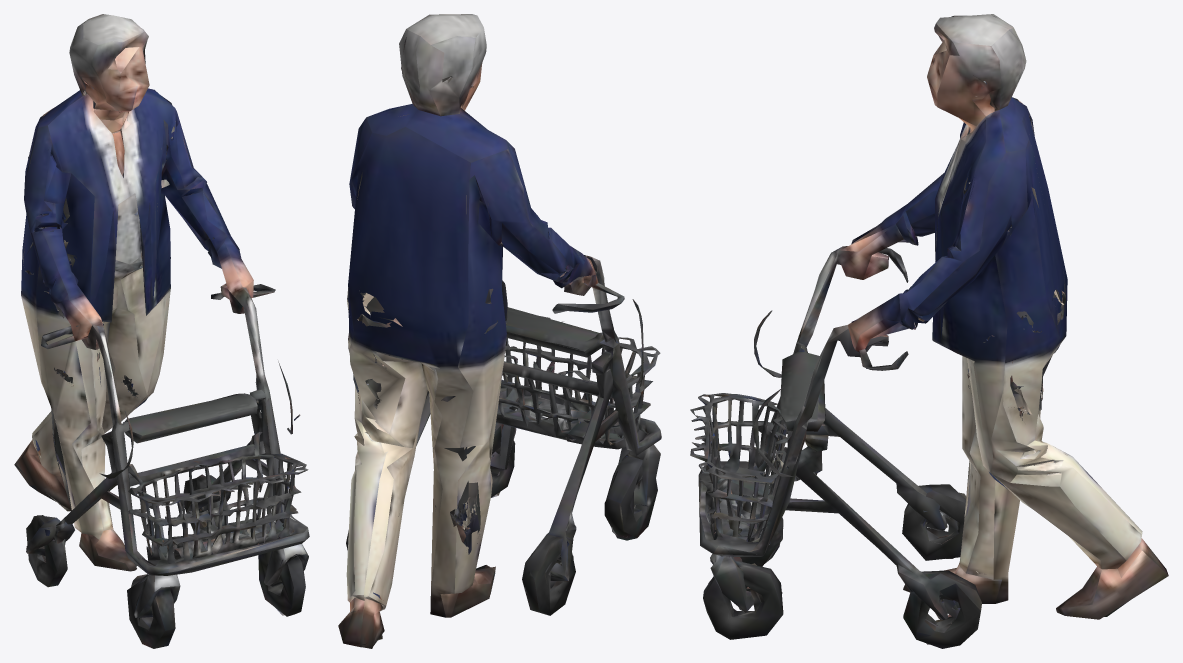
Rendered from person_07.glb.
3 renders of one model, left to right at view 1: azimuth 30°, elevation 25°; view 2: azimuth 150°, elevation 25°; view 3: azimuth 270°, elevation 25°, orthographic. The views are drawn at different scales.
Parts seen in each view (by area): view 1: Human_Rig; view 2: Human_Rig; view 3: Human_Rig.
Part boxes in pixels (bbox=[...]): Human_Rig: bbox=[14, 14, 309, 648]; Human_Rig: bbox=[338, 14, 661, 648]; Human_Rig: bbox=[690, 14, 1168, 648].
Bounding box in the file's own units: 0.7536 × 1.66 × 1.23.
1 material, 1 textured.
